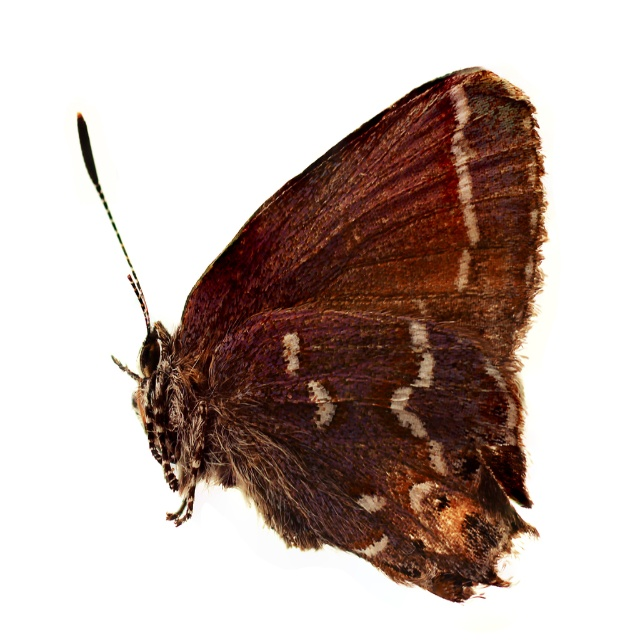Butterfly: (51, 48, 579, 605)
